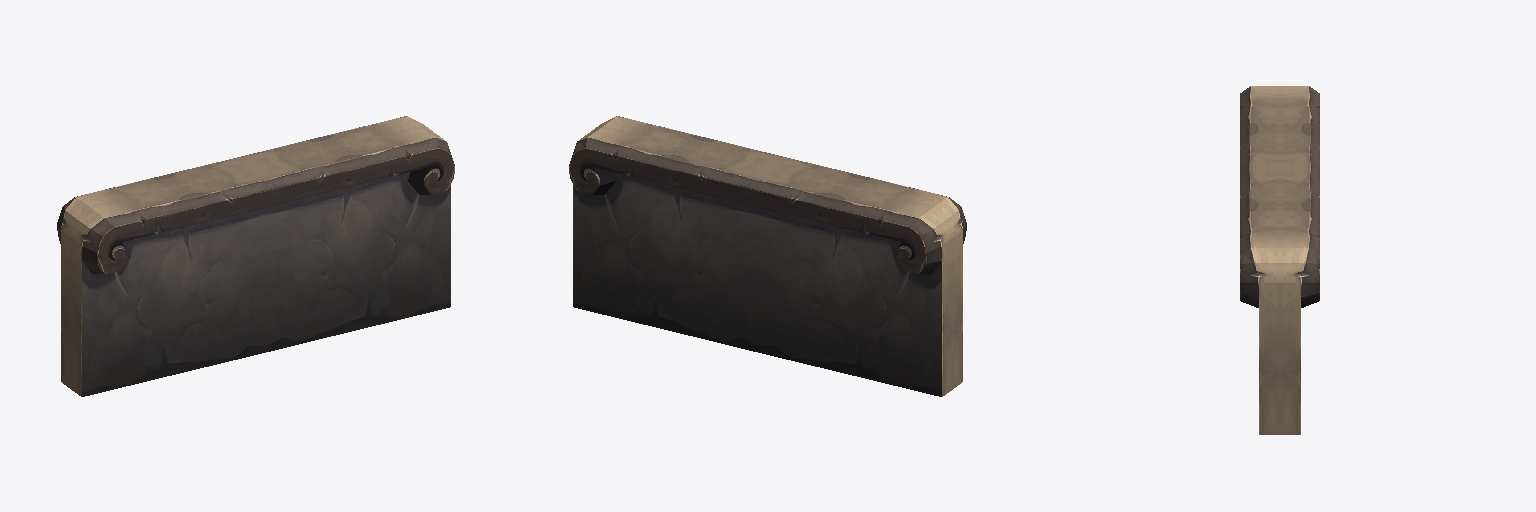
3 views of the same model, side by side, from view 1: azimuth 30°, elevation 25°; view 2: azimuth 150°, elevation 25°; view 3: azimuth 270°, elevation 25° (orthographic).
Parts seen in each view (by area): view 1: Geoset_000; view 2: Geoset_000; view 3: Geoset_000.
Boxes of the visible parts, x1,y1,x2,y2 form: Geoset_000: [57, 116, 454, 396]; Geoset_000: [569, 116, 966, 396]; Geoset_000: [1240, 86, 1319, 434].
Bounding box in the file's own units: 3.74 × 1.72 × 0.7083.
1 materials, 1 textured.